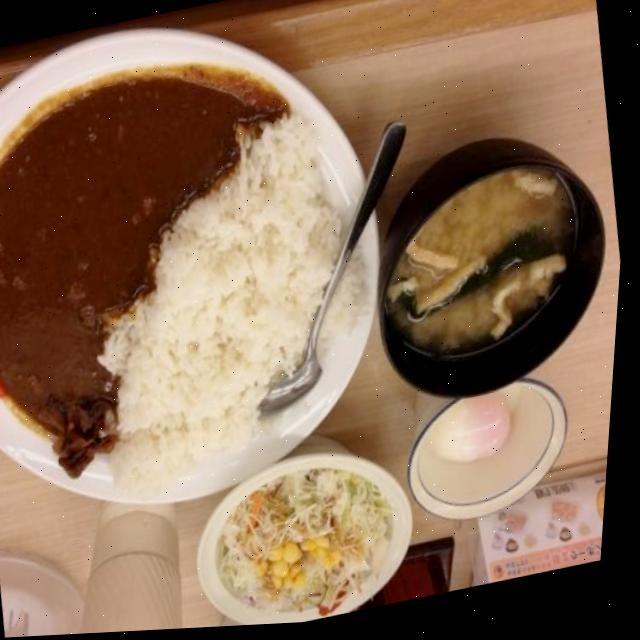汤锅炖物: (356, 103, 633, 428)
牛肉菜式: (0, 0, 433, 551)
蔬菜料理: (198, 412, 442, 631)
